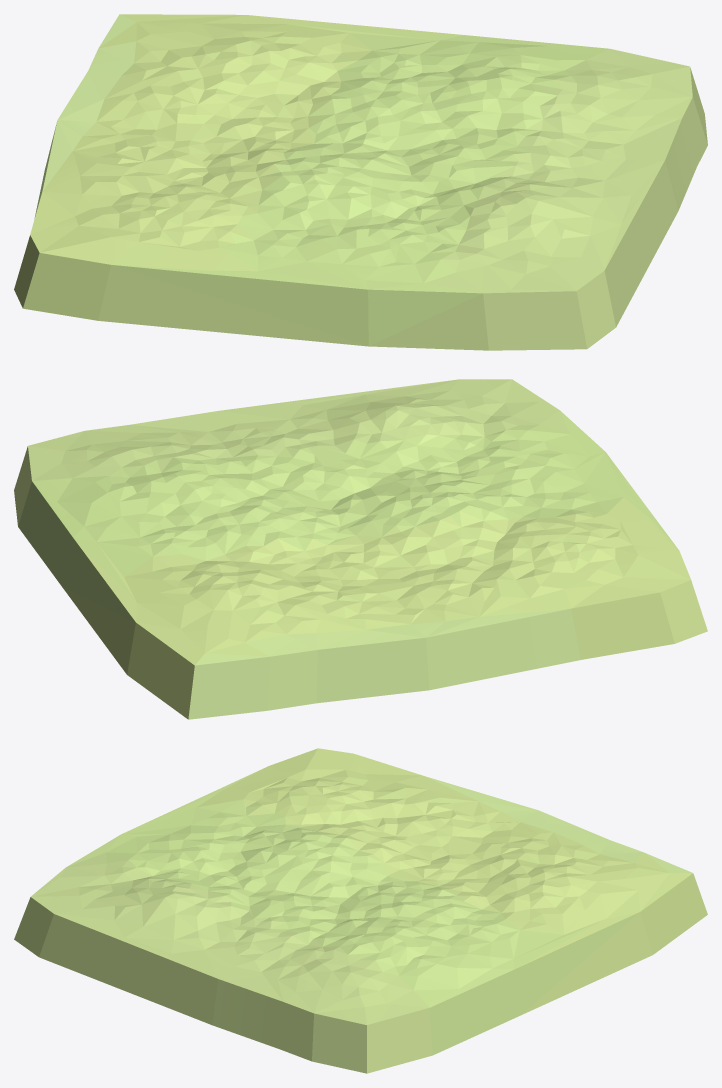
File: meadow_07.glb
The picture shows the model from 3 angles, top to bottom: view 1: azimuth 30°, elevation 25°; view 2: azimuth 150°, elevation 25°; view 3: azimuth 270°, elevation 25°; orthographic projection. The views are drawn at different scales.
Visible parts, largest first — view 1: PP_Meadow_07.002; view 2: PP_Meadow_07.002; view 3: PP_Meadow_07.002.
Part boxes in pixels (bbox=[...]): PP_Meadow_07.002: bbox=[14, 14, 707, 350]; PP_Meadow_07.002: bbox=[14, 379, 707, 719]; PP_Meadow_07.002: bbox=[14, 748, 707, 1073].
Bounding box in the file's own units: 11.1 × 1.09 × 11.26.
